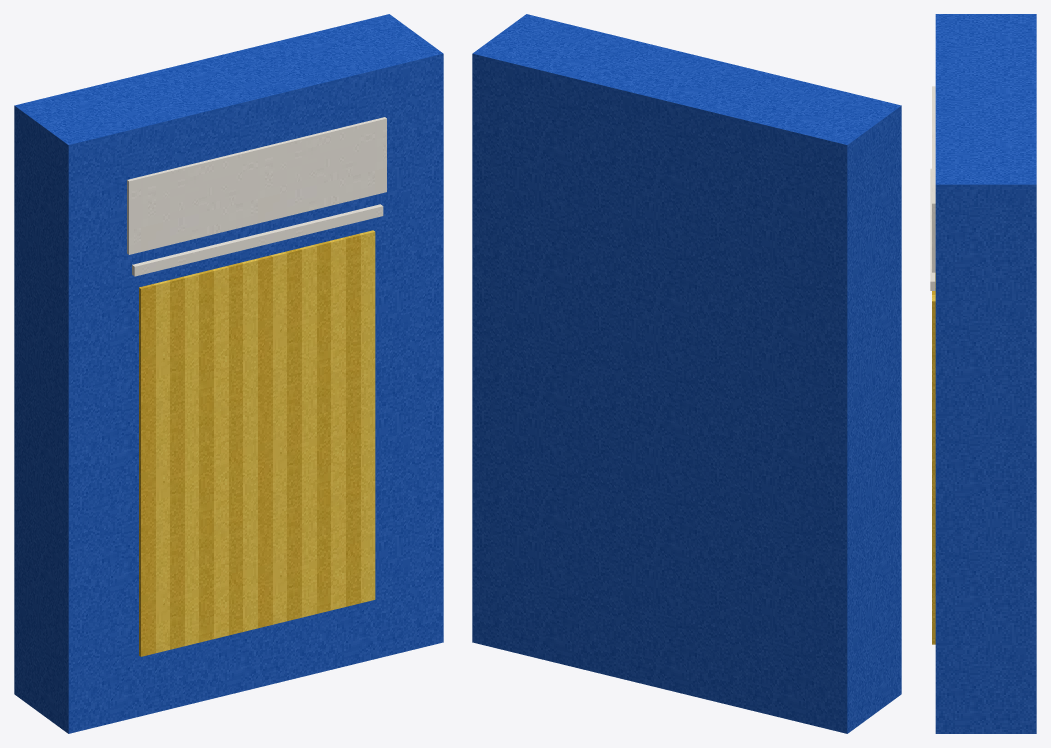
3 renders of one model, left to right at view 1: azimuth 30°, elevation 25°; view 2: azimuth 150°, elevation 25°; view 3: azimuth 270°, elevation 25°, orthographic. The views are drawn at different scales.
Parts seen in each view (by area): view 1: pasta_box; view 2: pasta_box; view 3: pasta_box.
Boxes of the visible parts, <box> form: pasta_box: <box>14,14,443,733</box>; pasta_box: <box>472,14,901,733</box>; pasta_box: <box>930,14,1036,733</box>.
Bounding box in the file's own units: 0.16 × 0.24 × 0.0422.
3 materials, 3 textured.
